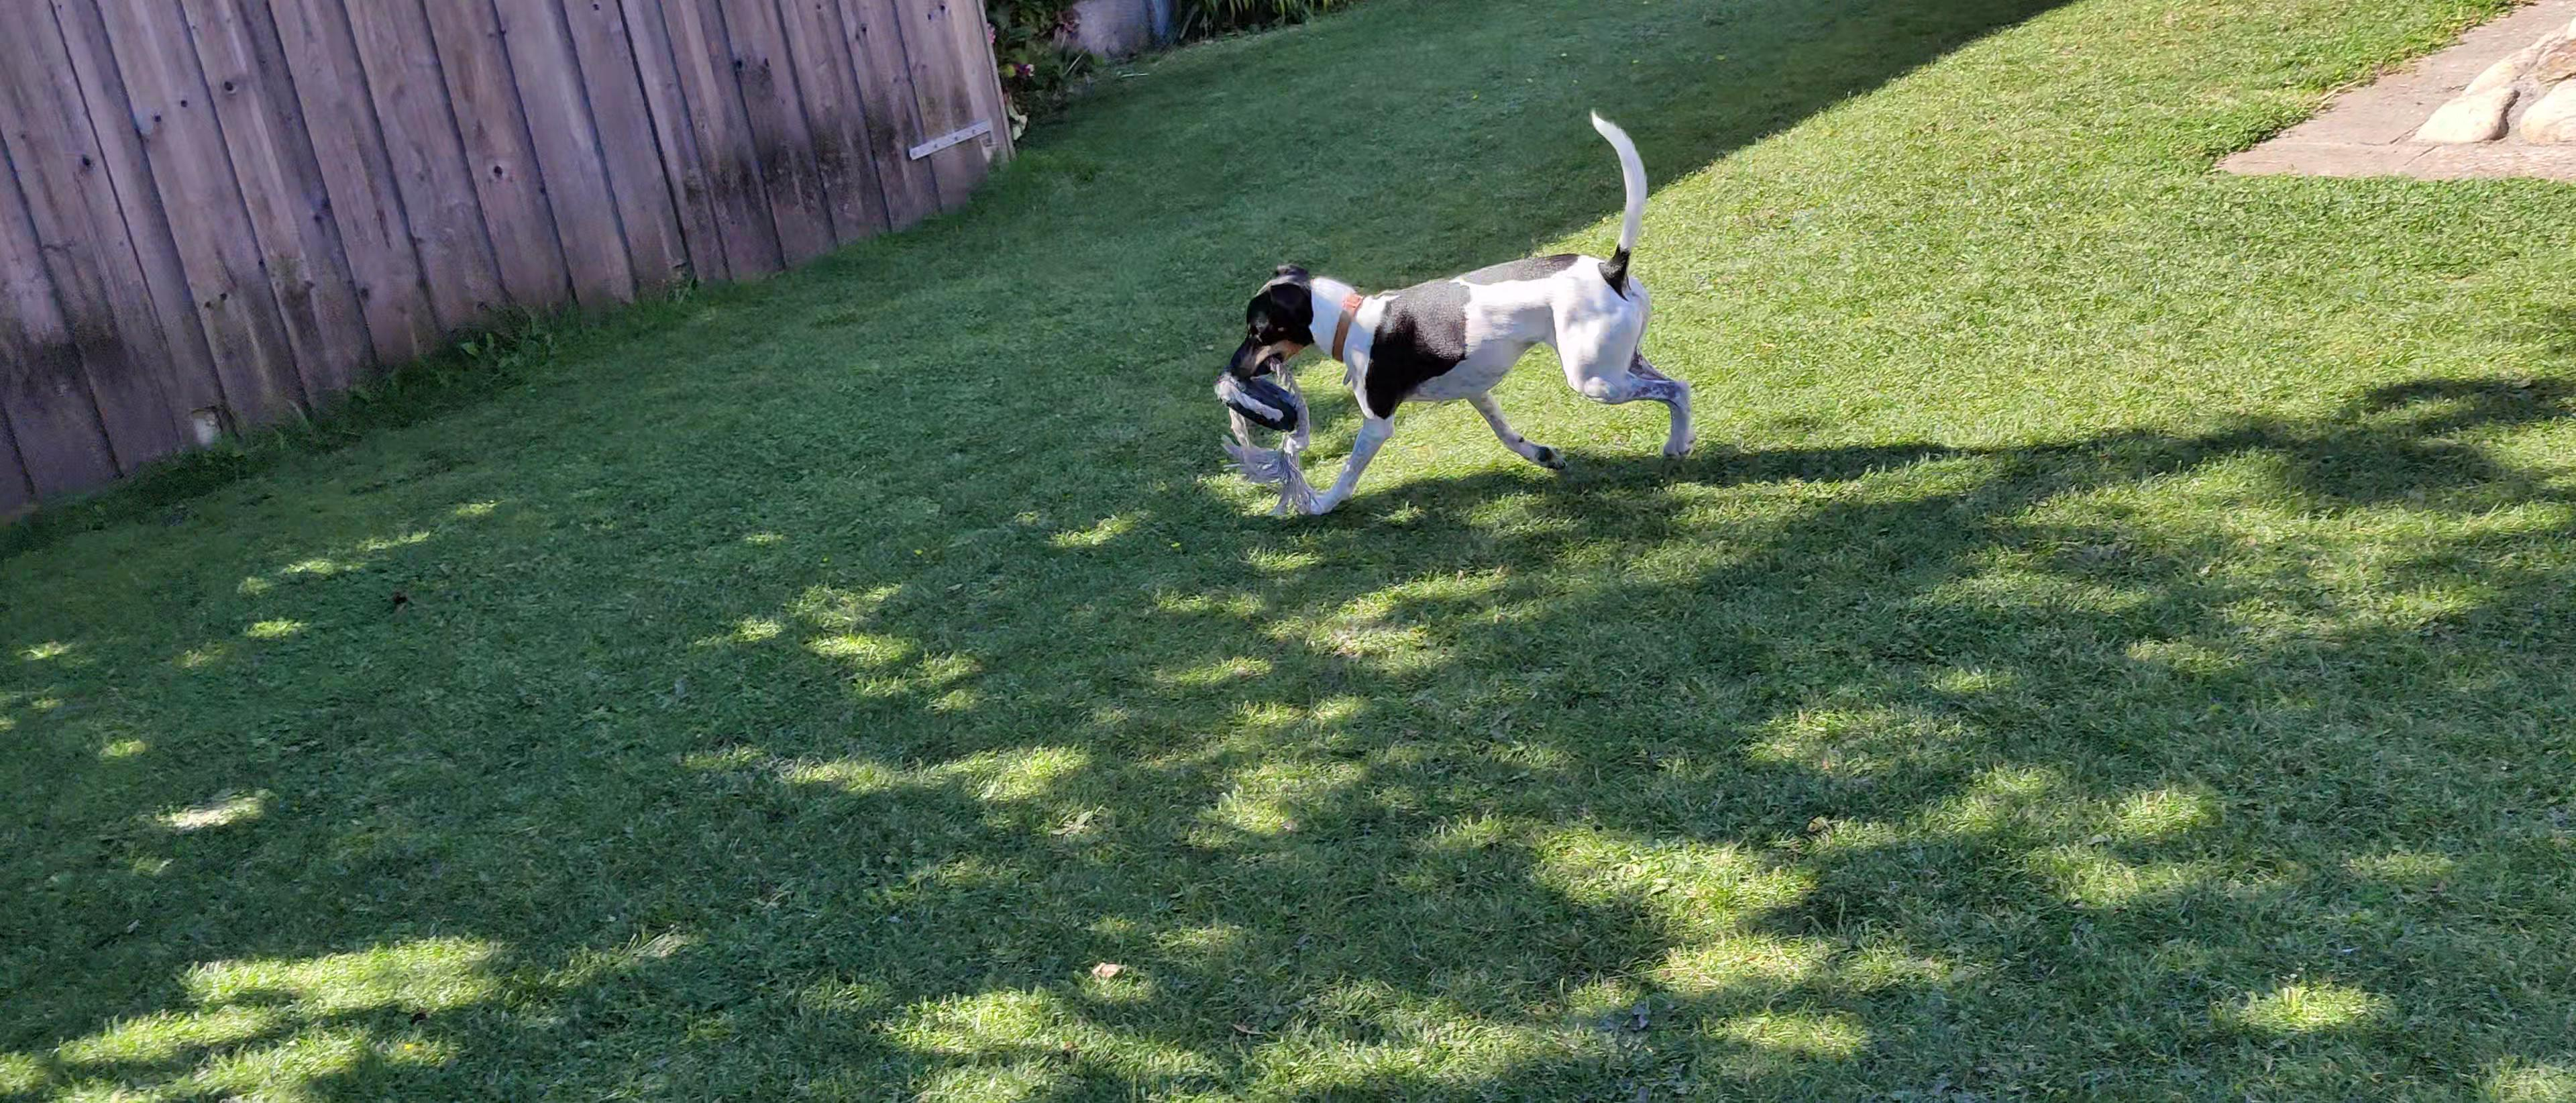Dog: (1214, 99, 1728, 519)
